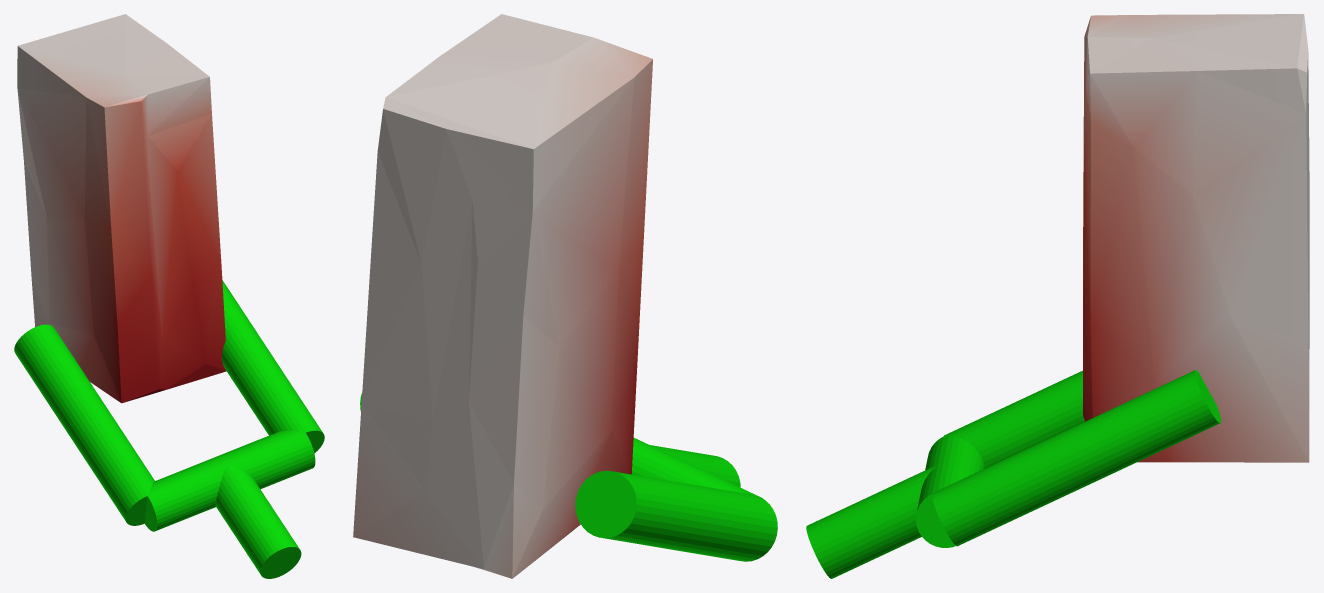
Rendered from round_000_trial_000.obj.
3 renders of one model, left to right at view 1: azimuth 30°, elevation 25°; view 2: azimuth 150°, elevation 25°; view 3: azimuth 270°, elevation 25°, orthographic. The views are drawn at different scales.
Parts seen in each view (by area): view 1: geometry_0, geometry_1; view 2: geometry_0, geometry_1; view 3: geometry_0, geometry_1.
Boxes of the visible parts, box(x1,y1,x2,y2) form: geometry_0: box(17, 14, 226, 403); geometry_1: box(14, 280, 324, 578); geometry_0: box(353, 14, 652, 578); geometry_1: box(360, 393, 777, 561); geometry_0: box(1083, 14, 1309, 462); geometry_1: box(806, 370, 1221, 578).
Size of the model in its own units: 0.0496 by 0.0993 by 0.0856.
